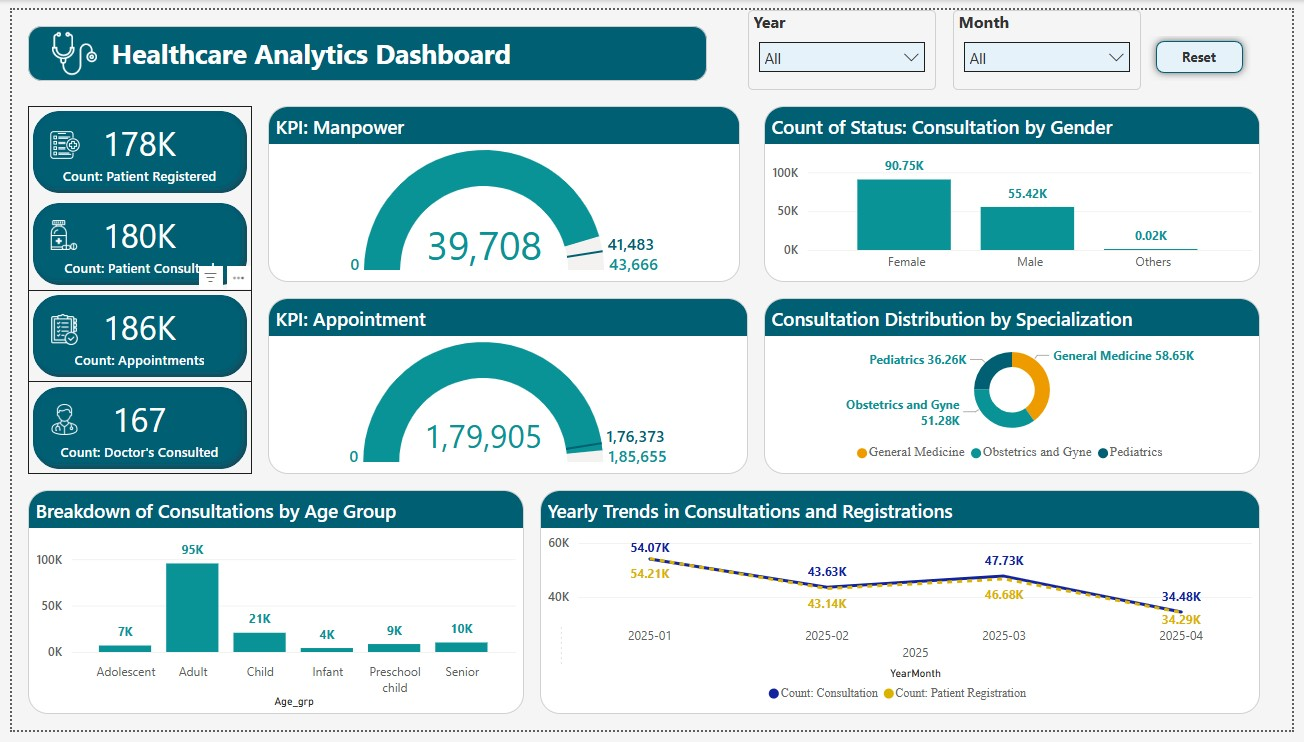

What the dashboard file says about the page in this screenshot:
{"tool":"powerbi","page":{"name":"Overview","canvas":[1280,720],"ordinal":0},"visuals":[{"type":"shape","box":[16.2,16.2,678.7,54.8],"z":0,"group":"g6"},{"type":"group","id":"g1","title":"Group 1","box":[16,96,224,368],"z":0},{"type":"donutChart","title":"Consultation Distribution by Specialization","fields":{"Category":["Processed_Dim_Doctor.Specialization"],"Y":["CountNonNull(Processed_Consultation.Status: Consultation)"]},"box":[752,288,496,176],"z":0,"group":"g2"},{"type":"image","box":[16.2,16.2,92.6,54.8],"z":1000,"group":"g6"},{"type":"group","id":"g2","title":"Group 3","box":[256,96,992,368],"z":1000},{"type":"group","id":"g3","title":"Group 2","box":[736,0,502.7,80],"z":2000,"group":"g5"},{"type":"cardVisual","fields":{"Data":["Sum(Processed_Patientreg.Count: Patient Registered)"]},"box":[16,96,224,92],"z":2000,"group":"g7"},{"type":"group","id":"g4","title":"Group 5","box":[27.8,114,49.4,316],"z":2000},{"type":"group","id":"g5","title":"Group 7","box":[16.2,0,1222.6,80],"z":3000},{"type":"group","id":"g6","title":"Group 4","box":[16.2,16.2,678.7,54.8],"z":4000,"group":"g5"},{"type":"gauge","title":"KPI: Manpower","fields":{"MaxValue":["Processed_PHCLogin.Total Working Days"],"Y":["Processed_PHCLogin.Count: PHC LoggedIn Days"],"TargetValue":["Processed_PHCLogin.Target Login Days"]},"box":[256,96,471.6,176],"z":4000,"group":"g2"},{"type":"lineChart","title":"Yearly Trends in Consultations and Registrations","fields":{"Category":["Processed_Dim_Date.Year Hierarchy.Year","Processed_Dim_Date.Year Hierarchy.YearMonth","Processed_Dim_Date.Year Hierarchy.Day"],"Y":["Sum(Processed_Appointment.Consultation Done)","Sum(Processed_Patientreg.Count: Patient Registered)"]},"box":[528,480,720,224],"z":4000},{"type":"slicer","title":"Year","fields":{"Values":["Processed_Dim_Date.Year"]},"box":[736,0,187.7,80],"z":5000,"group":"g3"},{"type":"image","box":[27.8,204.7,49.4,40.4],"z":5000,"group":"g4"},{"type":"gauge","title":"KPI: Appointment","fields":{"MaxValue":["Sum(Processed_Appointment.Count: Appointments)"],"Y":["Sum(Processed_Appointment.Consultation Done)"],"TargetValue":["Processed_Appointment.KPI Target Appointment"]},"box":[256,288,480,176],"z":5000,"group":"g2"},{"type":"columnChart","title":"Breakdown of Consultations by Age Group","fields":{"Category":["Processed_Consultation.Age_grp"],"Y":["CountNonNull(Processed_Consultation.Status: Consultation)"]},"box":[16,480,496,224],"z":5000},{"type":"slicer","title":"Month","fields":{"Values":["Processed_Dim_Date.Month Year"]},"box":[940.8,0,187.7,80],"z":6000,"group":"g3"},{"type":"clusteredColumnChart","fields":{"Category":["Processed_Consultation.Gender"],"Y":["CountNonNull(Processed_Consultation.Status: Consultation)"]},"box":[752,96,496,176],"z":6000},{"type":"image","box":[27.8,388.7,49.4,41.3],"z":6000,"group":"g4"},{"type":"actionButton","box":[1136.4,23.3,102.3,47.6],"z":7000,"group":"g3"},{"type":"image","box":[29.6,114,47.6,42.2],"z":7000,"group":"g4"},{"type":"cardVisual","fields":{"Data":["Sum(Processed_Appointment.Consultation Done)"]},"box":[16,188,224,92],"z":7000,"group":"g7"},{"type":"cardVisual","fields":{"Data":["Sum(Processed_Appointment.Count: Appointments)"]},"box":[16,280,224,92],"z":8000,"group":"g7"},{"type":"image","box":[27.8,298,49.4,43.1],"z":8000,"group":"g4"},{"type":"group","id":"g7","title":"Group 6","box":[16,96,224,368],"z":8002,"group":"g1"},{"type":"cardVisual","fields":{"Data":["Count(Processed_Appointment.DoctorID)"]},"box":[16,372,224,92],"z":9000,"group":"g7"}]}

Visuals, with their boxes in screenshot pixels (x1, y1, x2, y2), scaled from the page's 1280x720 canvas onto the 1304x742 screenshot:
shape: pyautogui.locateOnScreen(17, 17, 708, 73)
"Group 1" group: pyautogui.locateOnScreen(16, 99, 244, 478)
"Consultation Distribution by Specialization" donutChart: pyautogui.locateOnScreen(766, 297, 1271, 478)
image: pyautogui.locateOnScreen(17, 17, 111, 73)
"Group 3" group: pyautogui.locateOnScreen(261, 99, 1271, 478)
"Group 2" group: pyautogui.locateOnScreen(750, 0, 1262, 82)
cardVisual - Sum(Processed_Patientreg.Count: Patient Registered): pyautogui.locateOnScreen(16, 99, 244, 194)
"Group 5" group: pyautogui.locateOnScreen(28, 117, 79, 443)
"Group 7" group: pyautogui.locateOnScreen(17, 0, 1262, 82)
"Group 4" group: pyautogui.locateOnScreen(17, 17, 708, 73)
"KPI: Manpower" gauge: pyautogui.locateOnScreen(261, 99, 741, 280)
"Yearly Trends in Consultations and Registrations" lineChart: pyautogui.locateOnScreen(538, 495, 1271, 726)
"Year" slicer: pyautogui.locateOnScreen(750, 0, 941, 82)
image: pyautogui.locateOnScreen(28, 211, 79, 253)
"KPI: Appointment" gauge: pyautogui.locateOnScreen(261, 297, 750, 478)
"Breakdown of Consultations by Age Group" columnChart: pyautogui.locateOnScreen(16, 495, 522, 726)
"Month" slicer: pyautogui.locateOnScreen(958, 0, 1150, 82)
clusteredColumnChart - Processed_Consultation.Gender x CountNonNull(Processed_Consultation.Status: Consultation): pyautogui.locateOnScreen(766, 99, 1271, 280)
image: pyautogui.locateOnScreen(28, 401, 79, 443)
actionButton: pyautogui.locateOnScreen(1158, 24, 1262, 73)
image: pyautogui.locateOnScreen(30, 117, 79, 161)
cardVisual - Sum(Processed_Appointment.Consultation Done): pyautogui.locateOnScreen(16, 194, 244, 289)
cardVisual - Sum(Processed_Appointment.Count: Appointments): pyautogui.locateOnScreen(16, 289, 244, 383)
image: pyautogui.locateOnScreen(28, 307, 79, 352)
"Group 6" group: pyautogui.locateOnScreen(16, 99, 244, 478)
cardVisual - Count(Processed_Appointment.DoctorID): pyautogui.locateOnScreen(16, 383, 244, 478)
